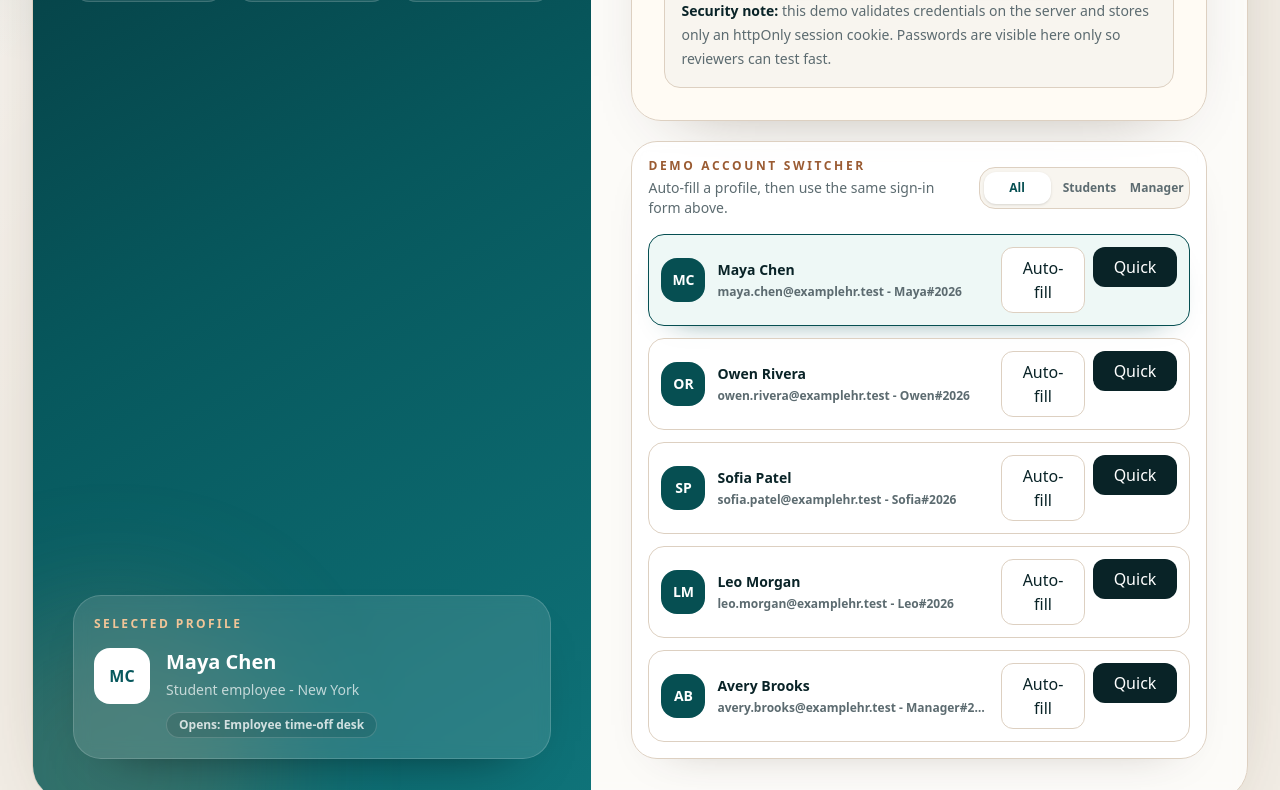
Test case: LoginPanel › auto-fills student and manager dummy credentials
(page scrolled)
Click the button "OR Owen Rivera owen.rivera@examplehr.test - Owen#2026".
click(825, 384)  # box [661,362,989,406]
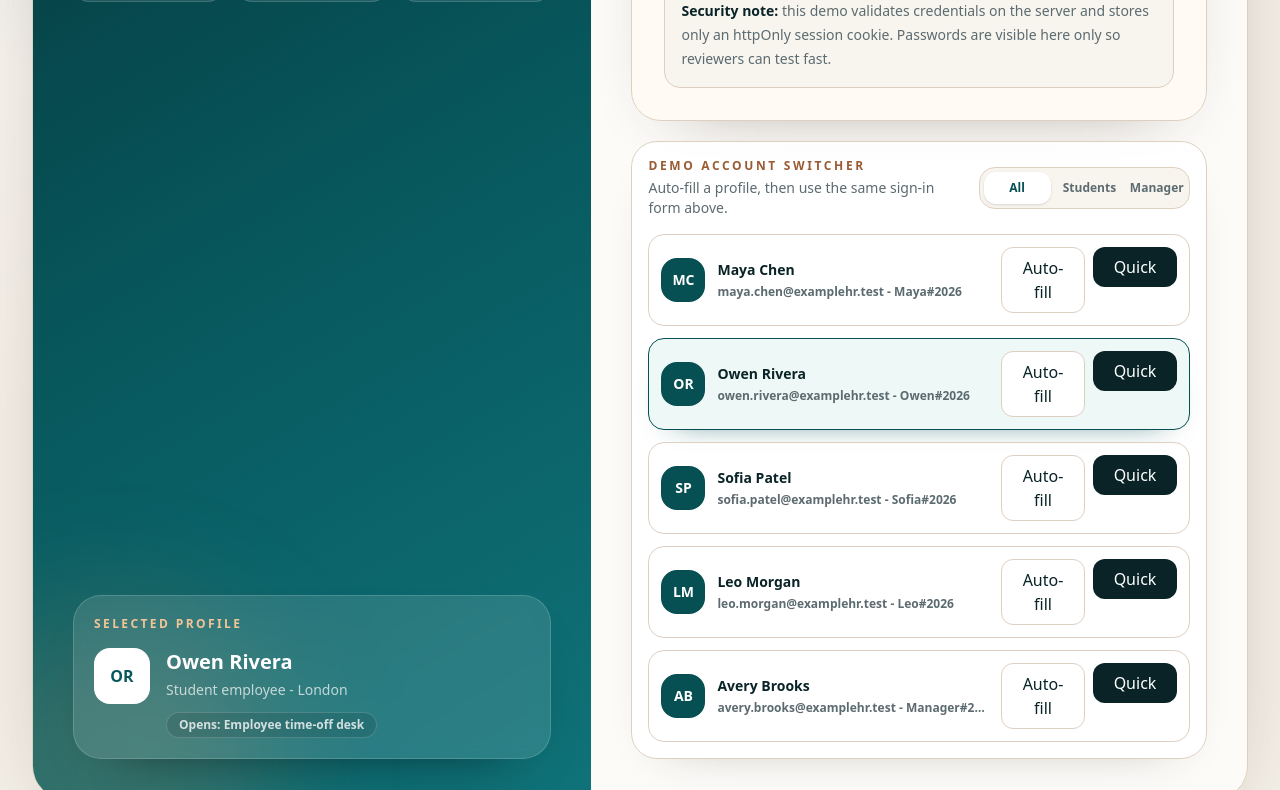
Click the button "AB Avery Brooks avery.brooks@examplehr.test - Manager#2026".
click(825, 696)  # box [661,674,989,718]
(page scrolled)
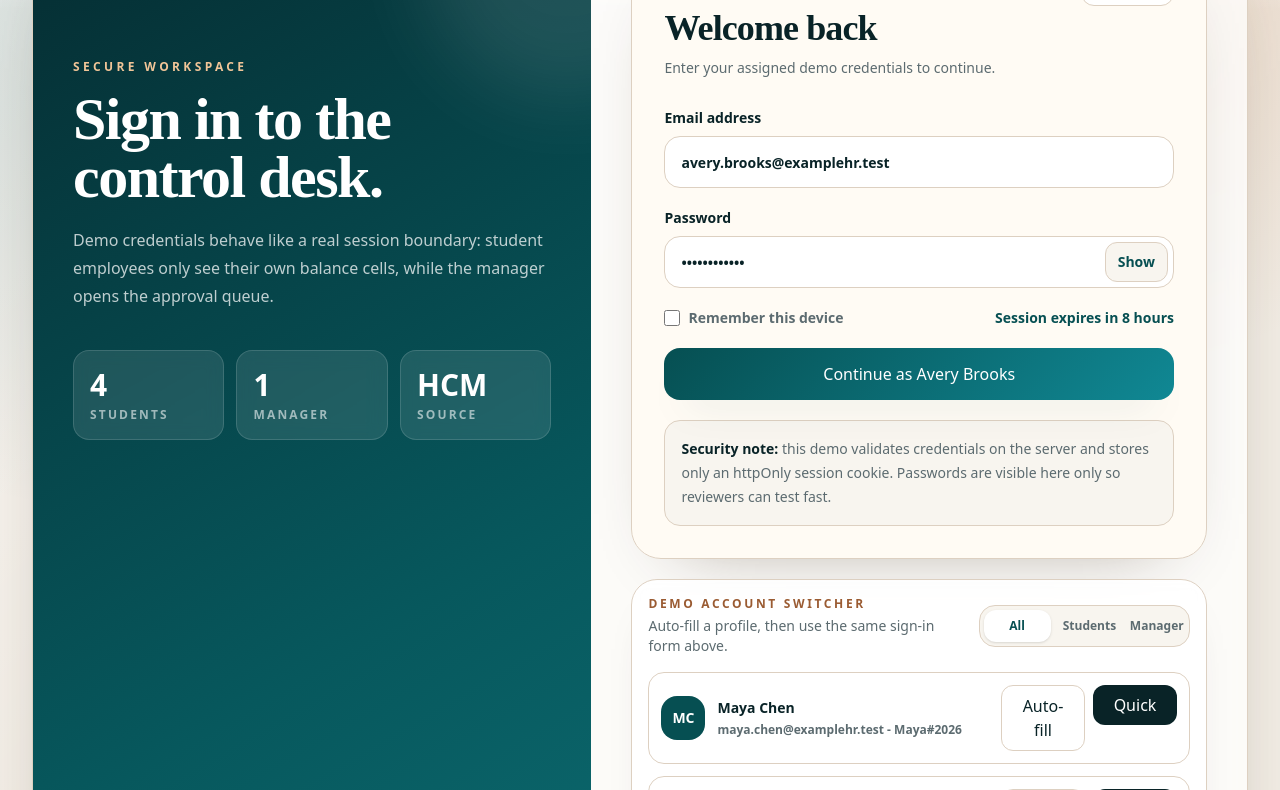
Expected: the field labelled "Email address" holds "avery.brooks@examplehr.test", [664,136,1174,188]
Expected: the password field labelled "Password" holds "Manager#2026", [664,236,1174,288]
Expected: the button "Continue as Avery Brooks" is shown, [664,348,1174,400]
